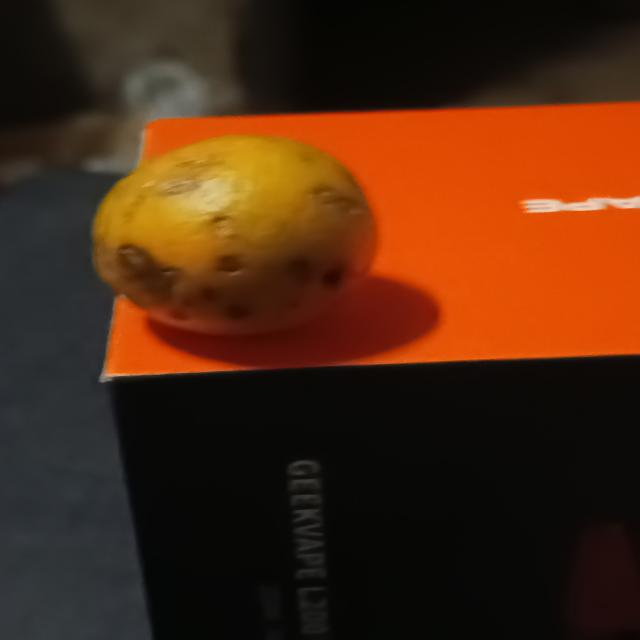black spot: (81, 129, 390, 339)
